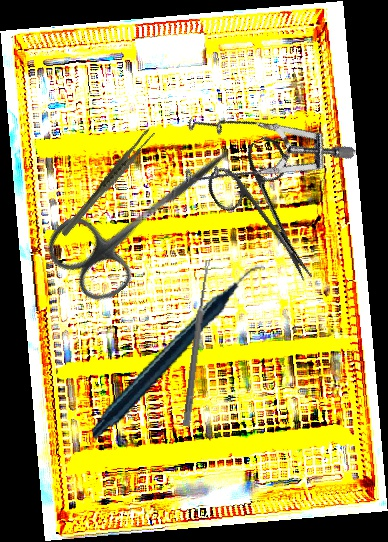Handpiece: (68, 262, 290, 442)
Iris Scissors: (38, 112, 256, 313), (199, 132, 346, 300)
Speculum: (159, 63, 357, 253)
Surgical Spoon: (182, 259, 212, 427)
Tissue Forceps: (44, 126, 171, 238)
